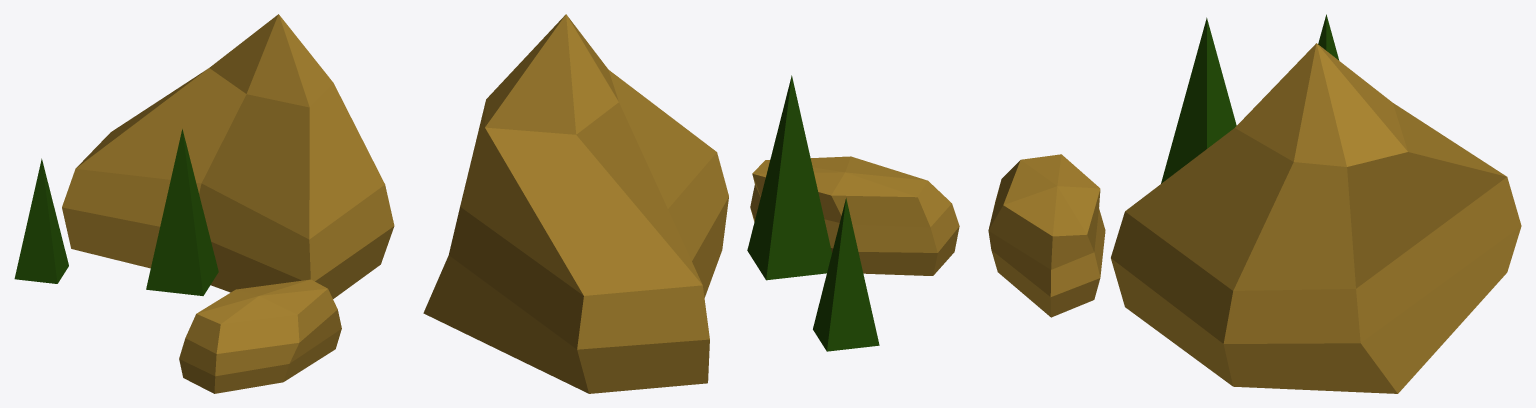
File: Hex_dec_Larrocks.fbx
3 renders of one model, left to right at view 1: azimuth 30°, elevation 25°; view 2: azimuth 150°, elevation 25°; view 3: azimuth 270°, elevation 25°, orthographic. The views are drawn at different scales.
Parts seen in each view (by area): view 1: pSphere9; view 2: pSphere9; view 3: pSphere9.
Part boxes in pixels (bbox=[...]): pSphere9: bbox=[14, 14, 394, 393]; pSphere9: bbox=[423, 14, 959, 393]; pSphere9: bbox=[988, 14, 1521, 393].
Size of the model in its own units: 3.34 by 2.27 by 3.6.
